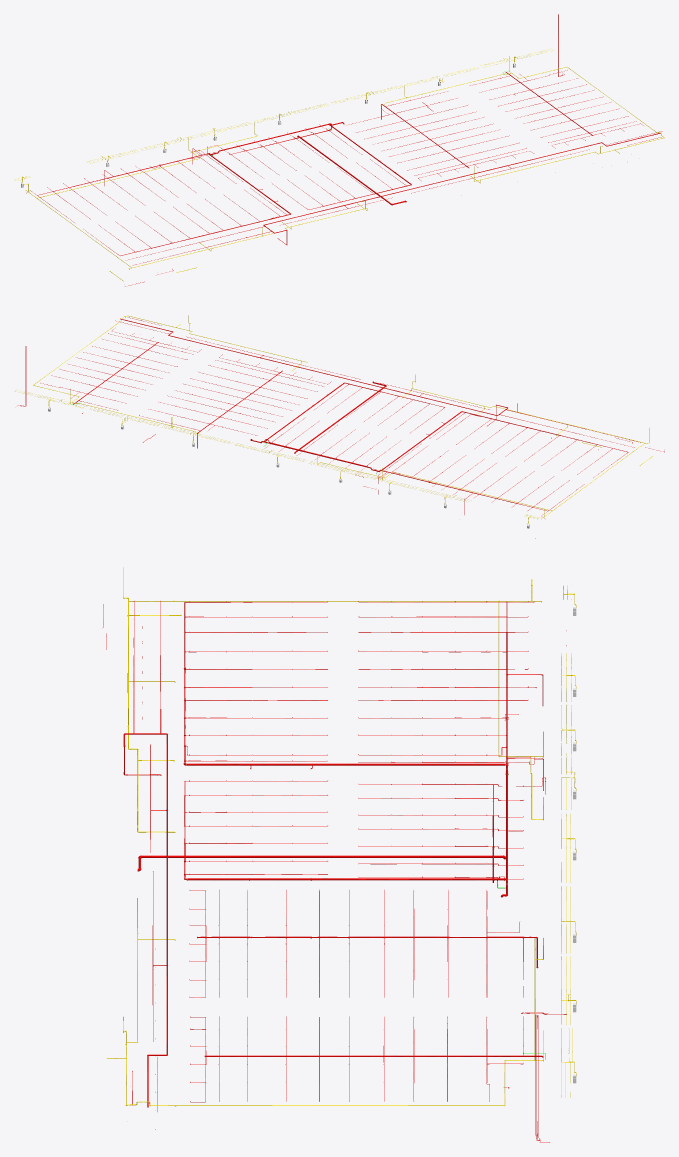
The model's file is detail-sprinklers-lite-2-1f.glb.
3 renders of one model, top to bottom at view 1: azimuth 30°, elevation 25°; view 2: azimuth 150°, elevation 25°; view 3: azimuth 270°, elevation 25°, orthographic. The views are drawn at different scales.
Size of the model in its own units: 105 by 11.42 by 40.25.
